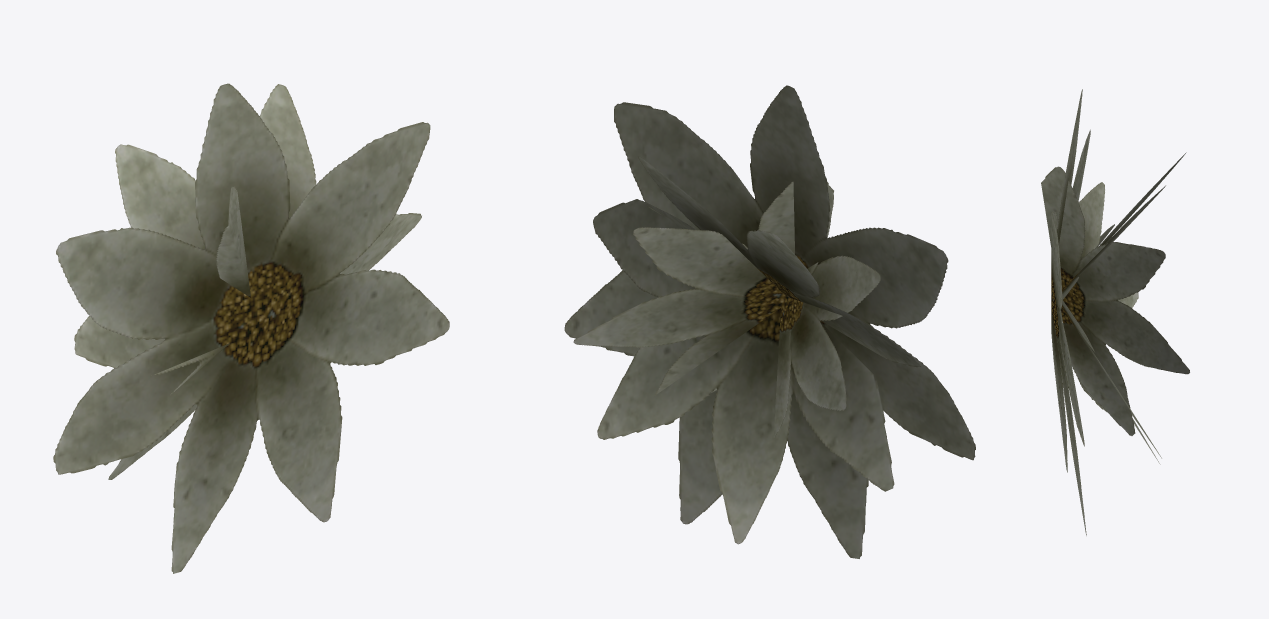
The model's file is TI_WaterLily_Bloom_01.fbx.
3 renders of one model, left to right at view 1: azimuth 30°, elevation 25°; view 2: azimuth 150°, elevation 25°; view 3: azimuth 270°, elevation 25°, orthographic. The views are drawn at different scales.
Visible parts, largest first — view 1: TI_WaterLily_Bloom_01; view 2: TI_WaterLily_Bloom_01; view 3: TI_WaterLily_Bloom_01.
Boxes of the visible parts, x1,y1,x2,y2 form: TI_WaterLily_Bloom_01: (53, 83, 449, 573); TI_WaterLily_Bloom_01: (564, 85, 975, 558); TI_WaterLily_Bloom_01: (1041, 89, 1189, 535).
Bounding box in the file's own units: 0.5363 × 0.5895 × 0.2774.
